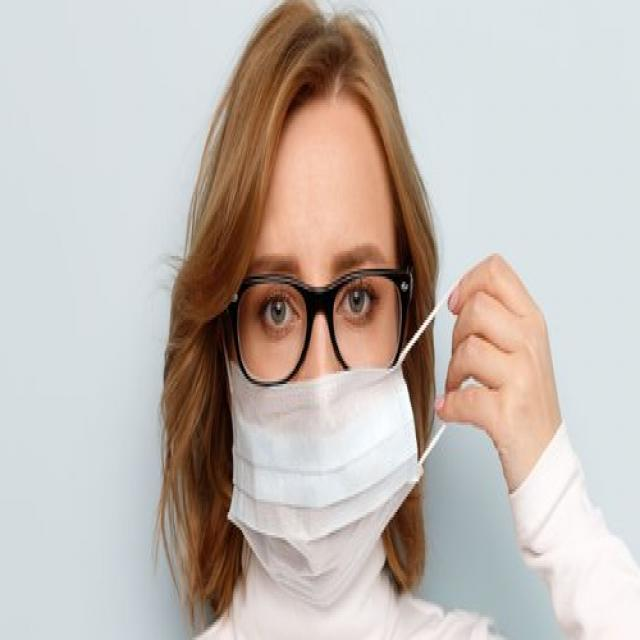Glasses: (230, 269, 415, 384)
